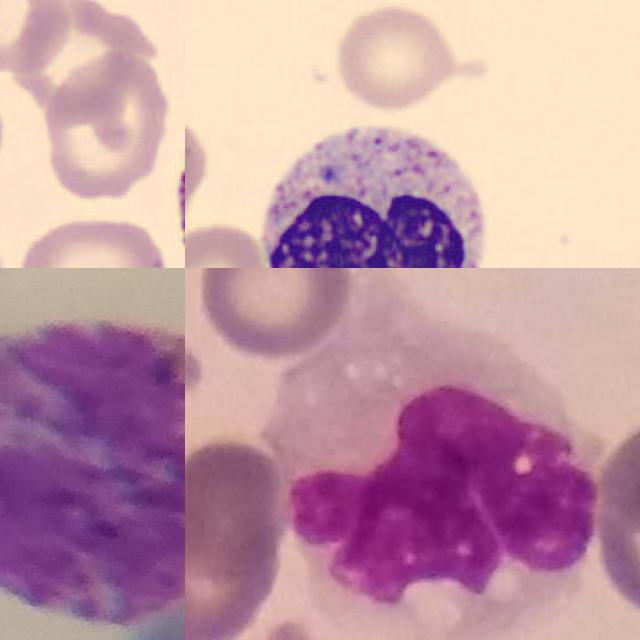Basophil: (0, 321, 185, 626)
Monocyte: (277, 337, 601, 625), (248, 112, 497, 268)
RBC: (39, 47, 174, 204), (325, 0, 481, 113), (6, 211, 175, 268), (0, 0, 76, 78), (185, 218, 275, 268)
